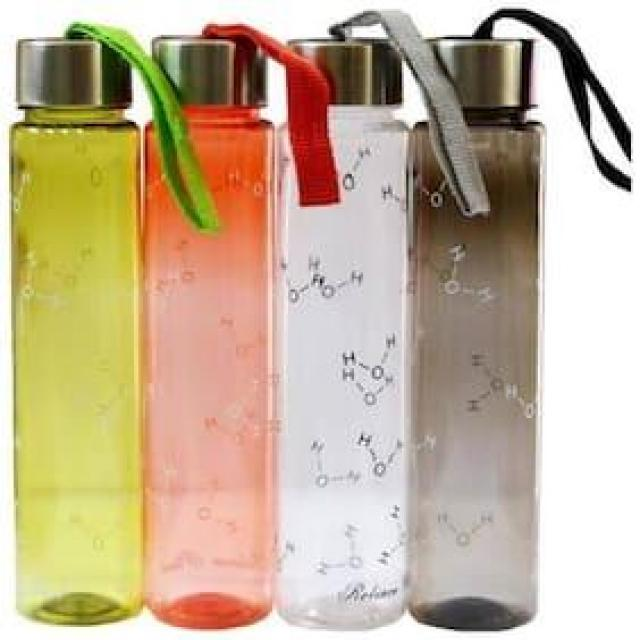plastic_bottle: (412, 1, 640, 637), (5, 13, 148, 631), (278, 4, 409, 629), (149, 10, 280, 632)
